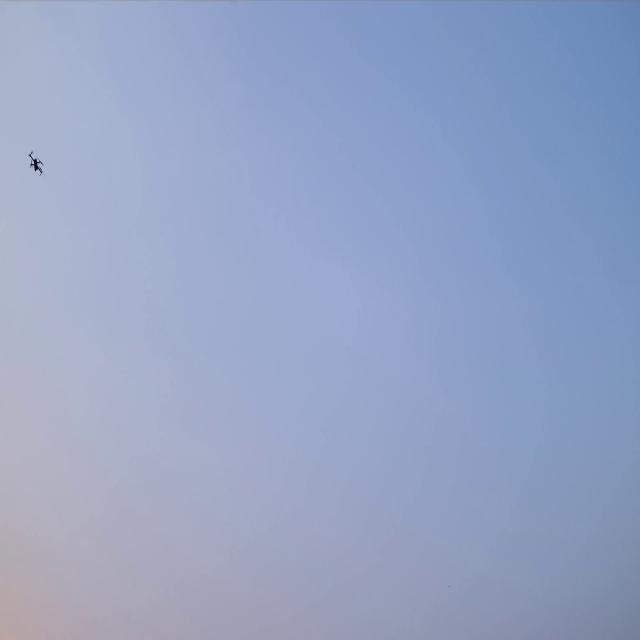UAV: (26, 147, 46, 179)
